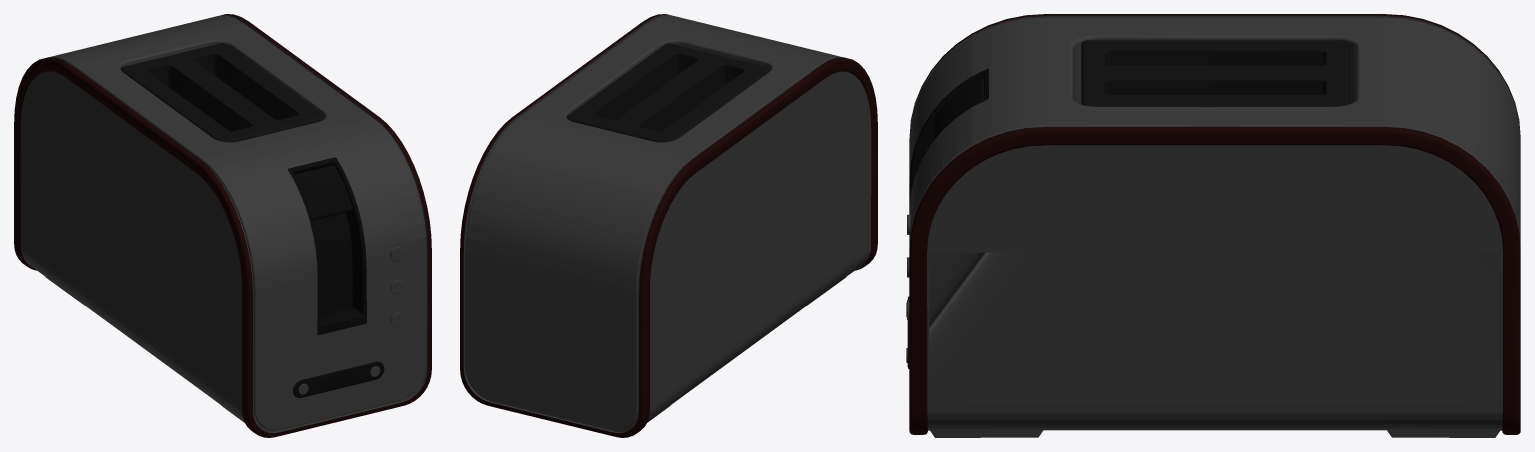
The model's file is toaster.FBX.
3 renders of one model, left to right at view 1: azimuth 30°, elevation 25°; view 2: azimuth 150°, elevation 25°; view 3: azimuth 270°, elevation 25°, orthographic. The views are drawn at different scales.
Visible parts, largest first — view 1: toaster; view 2: toaster; view 3: toaster.
Boxes of the visible parts, left/top/right/bottom form: toaster: left=14, top=14, right=431, bottom=437; toaster: left=460, top=14, right=877, bottom=437; toaster: left=906, top=14, right=1520, bottom=437.
Size of the model in its own units: 4.65 by 5.98 by 10.3.
